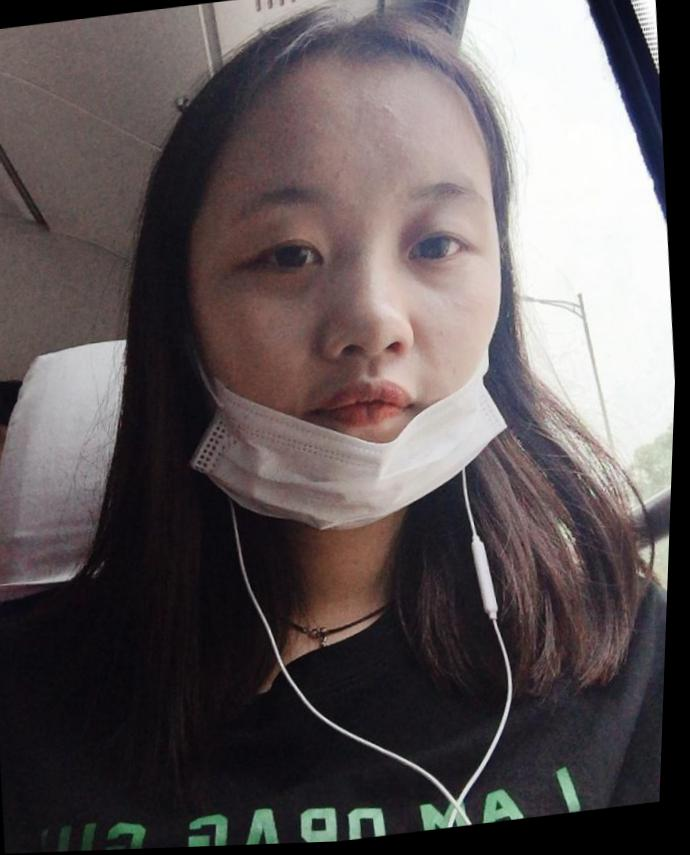WRONG: (176, 143, 517, 538)
